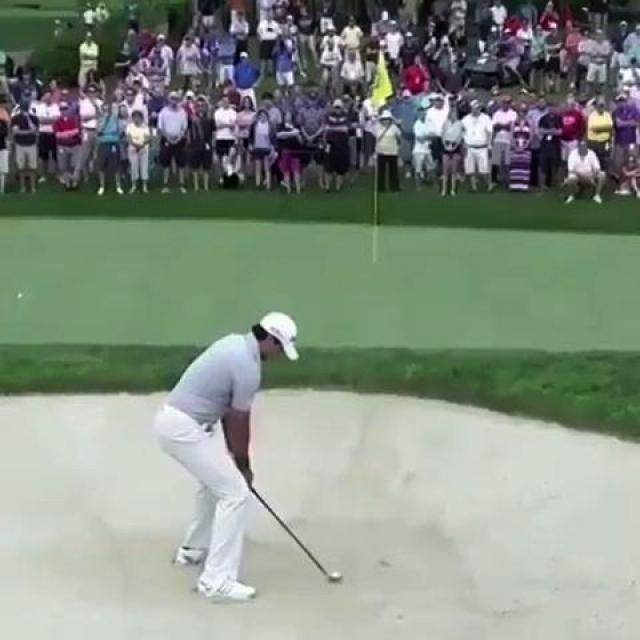golf ball: (331, 571, 340, 578)
golf club-handle: (249, 484, 345, 583)
golf club-head: (331, 574, 344, 582)
